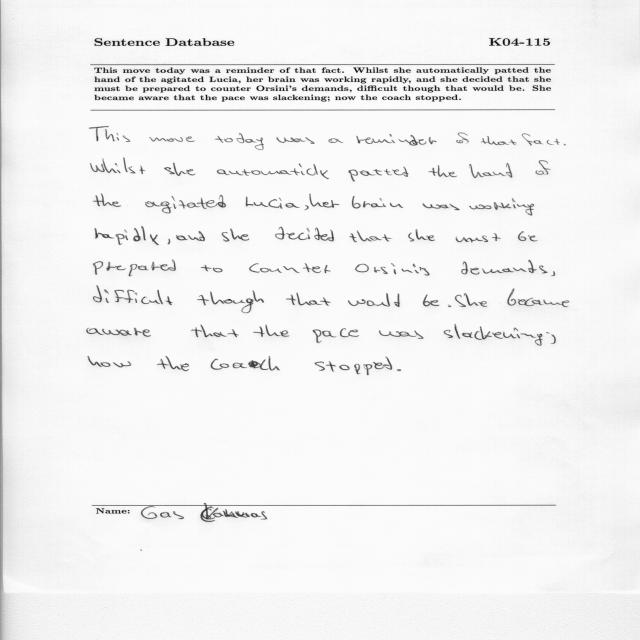word: (444, 324, 543, 346), (217, 164, 329, 179), (197, 291, 264, 314), (93, 286, 173, 305), (145, 195, 226, 213), (315, 357, 392, 375), (93, 260, 176, 276), (95, 227, 159, 246), (461, 260, 547, 274), (508, 289, 570, 308), (469, 198, 534, 216), (211, 356, 280, 371), (355, 263, 430, 276), (356, 134, 437, 146), (349, 167, 409, 182), (91, 158, 146, 174), (215, 133, 264, 150), (275, 227, 334, 241), (249, 263, 331, 273), (348, 293, 400, 307), (246, 196, 300, 209), (313, 328, 359, 343), (469, 163, 513, 178), (90, 126, 131, 142), (191, 325, 239, 338), (352, 196, 403, 208), (286, 293, 331, 306), (87, 328, 151, 337), (157, 356, 189, 371), (349, 231, 392, 242), (88, 356, 131, 367), (522, 134, 560, 146), (456, 233, 501, 243), (455, 293, 487, 307), (253, 325, 289, 337), (310, 194, 340, 208), (164, 163, 195, 176), (379, 330, 423, 339), (93, 194, 121, 207), (222, 229, 249, 242), (429, 165, 457, 177), (481, 136, 517, 145), (408, 230, 435, 242), (176, 231, 205, 241), (149, 136, 195, 142), (277, 137, 315, 144), (536, 160, 551, 175), (423, 204, 460, 210), (518, 231, 537, 242), (423, 295, 439, 307), (201, 265, 223, 272), (456, 133, 469, 144), (546, 332, 556, 344), (328, 138, 343, 143), (304, 206, 309, 211), (551, 271, 555, 276), (168, 239, 171, 244), (397, 369, 401, 371), (563, 144, 566, 146), (448, 306, 451, 308)
